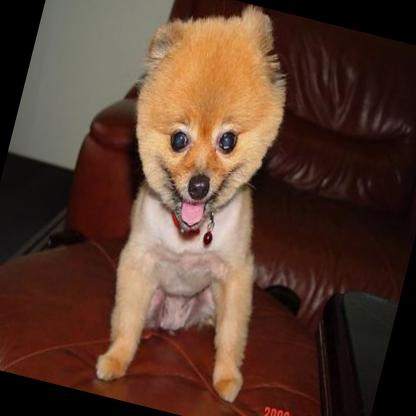Pomeranian: (62, 0, 331, 409)
